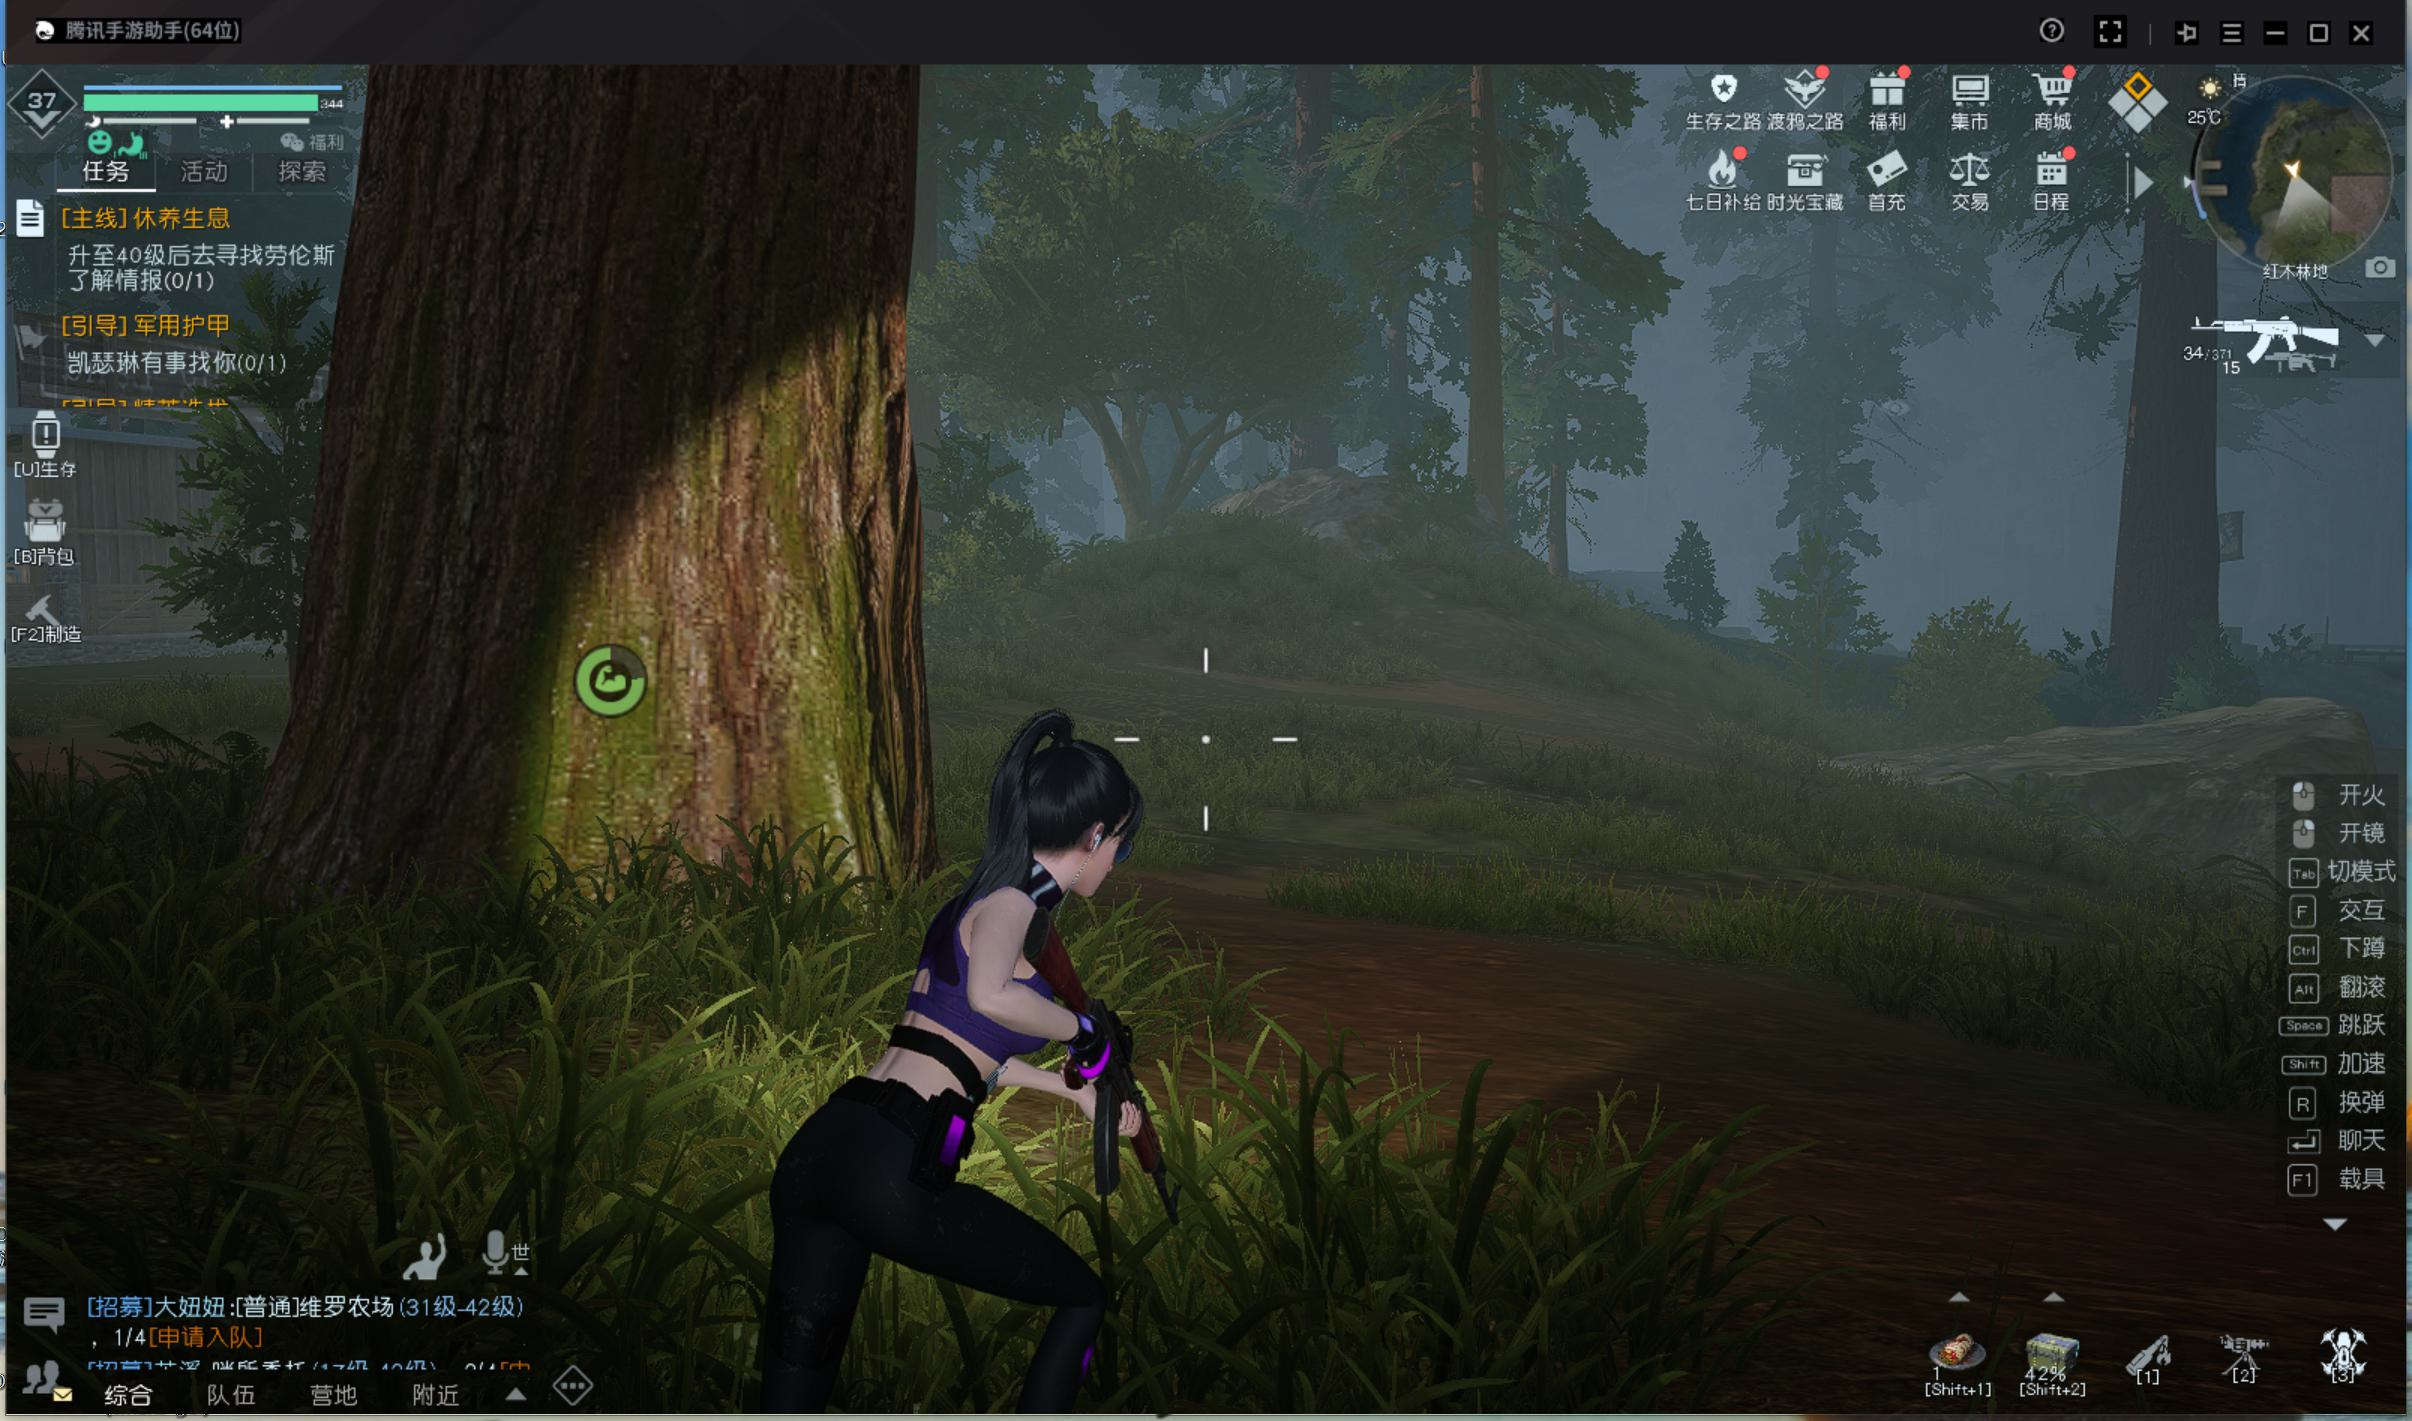tree: (299, 85, 935, 903), (2124, 232, 2234, 716), (1460, 156, 1509, 584), (1384, 311, 1419, 516)
